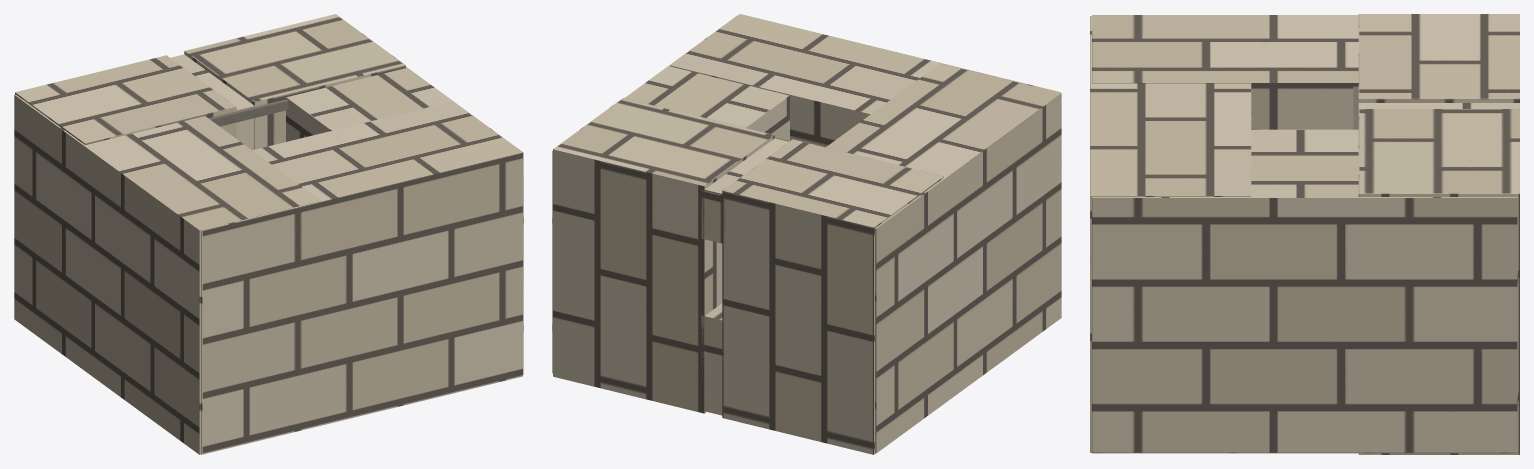
Rendered from castle_turret.glb.
3 views of the same model, side by side, from view 1: azimuth 30°, elevation 25°; view 2: azimuth 150°, elevation 25°; view 3: azimuth 270°, elevation 25° (orthographic). The views are drawn at different scales.
Parts seen in each view (by area): view 1: castle_turret; view 2: castle_turret; view 3: castle_turret.
Boxes of the visible parts, x1,y1,x2,y2 form: castle_turret: (14, 14, 523, 454); castle_turret: (552, 14, 1061, 454); castle_turret: (1090, 14, 1519, 454).
Bounding box in the file's own units: 4 × 2.68 × 4.
Materials: 1 (1 with a texture image).
